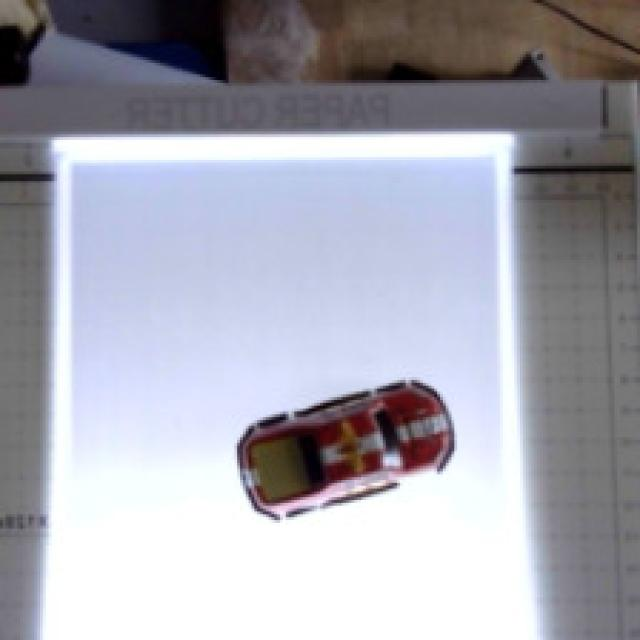Red Car: (205, 347, 472, 562)
